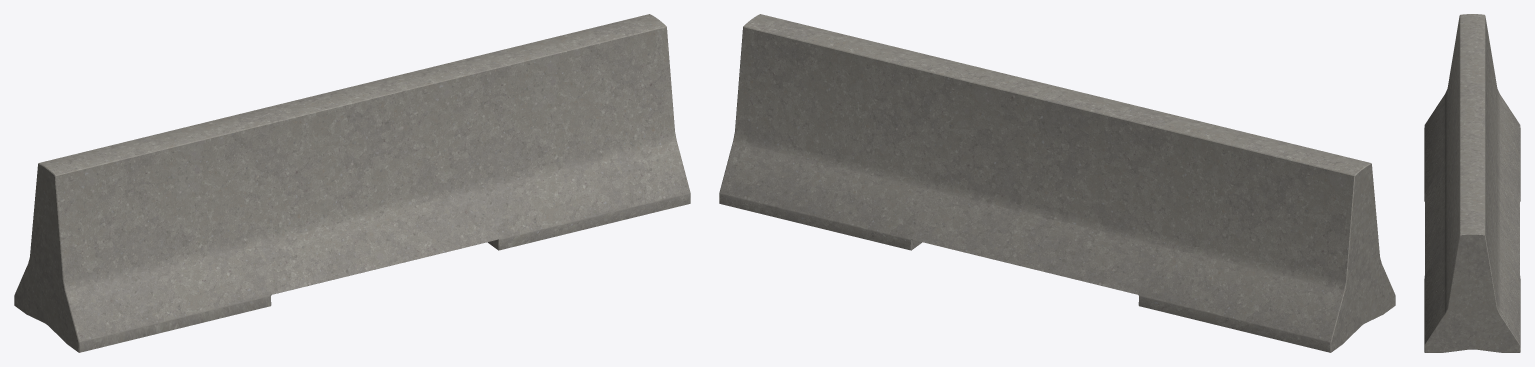
Rendered from Concrete-Barrier_04.obj.
3 views of the same model, side by side, from view 1: azimuth 30°, elevation 25°; view 2: azimuth 150°, elevation 25°; view 3: azimuth 270°, elevation 25° (orthographic). The views are drawn at different scales.
Visible parts, largest first — view 1: Concrete-Barrier; view 2: Concrete-Barrier; view 3: Concrete-Barrier.
Boxes of the visible parts, x1,y1,x2,y2 form: Concrete-Barrier: [14, 14, 690, 352]; Concrete-Barrier: [719, 14, 1395, 352]; Concrete-Barrier: [1424, 14, 1520, 352].
Size of the model in its own units: 2.88 by 0.726 by 0.5319.
1 material, 1 textured.
